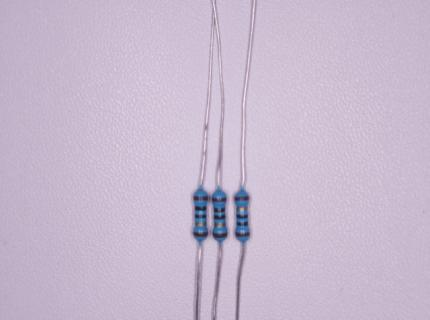Black band: (214, 207, 225, 212), (237, 221, 248, 226), (195, 206, 206, 210), (195, 214, 206, 218), (214, 215, 225, 219), (236, 215, 247, 219)
Brown band: (236, 231, 250, 237), (212, 197, 227, 202), (213, 233, 227, 238), (194, 196, 208, 201), (193, 232, 207, 237), (234, 197, 249, 201)
Gold band: (195, 222, 206, 227), (214, 222, 225, 227), (236, 207, 247, 211)
